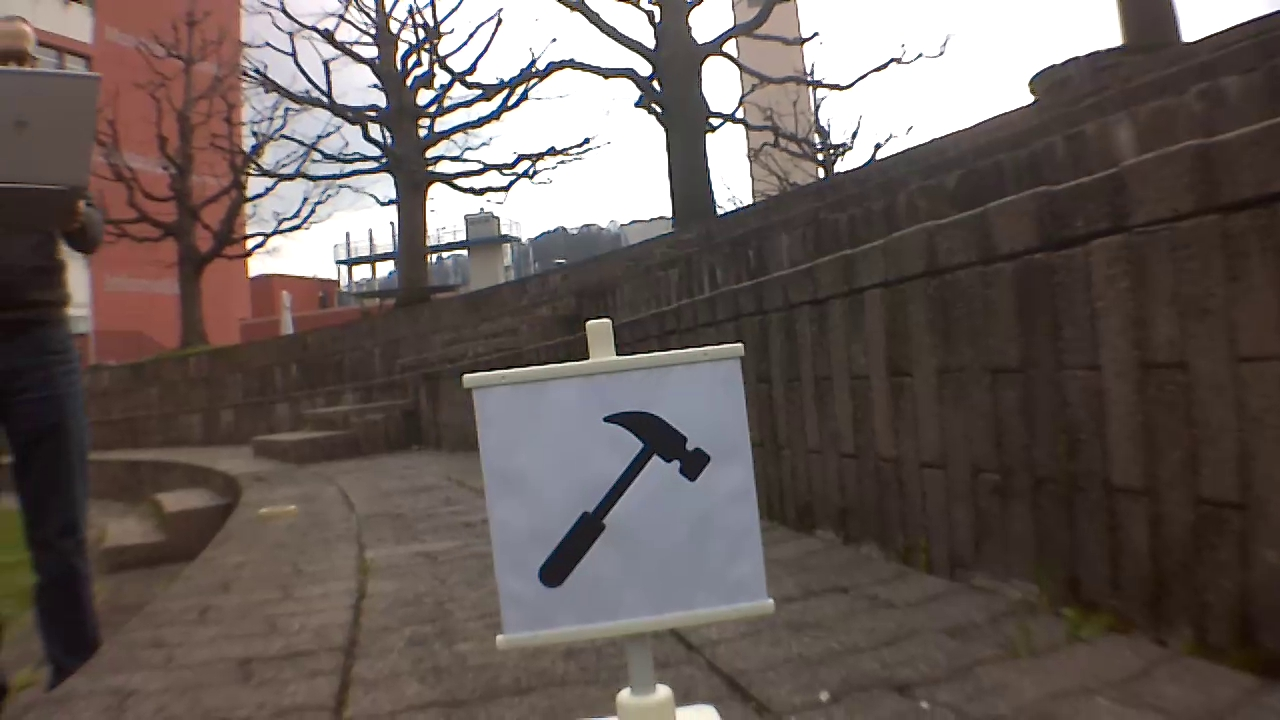hammer: (538, 402, 725, 586)
